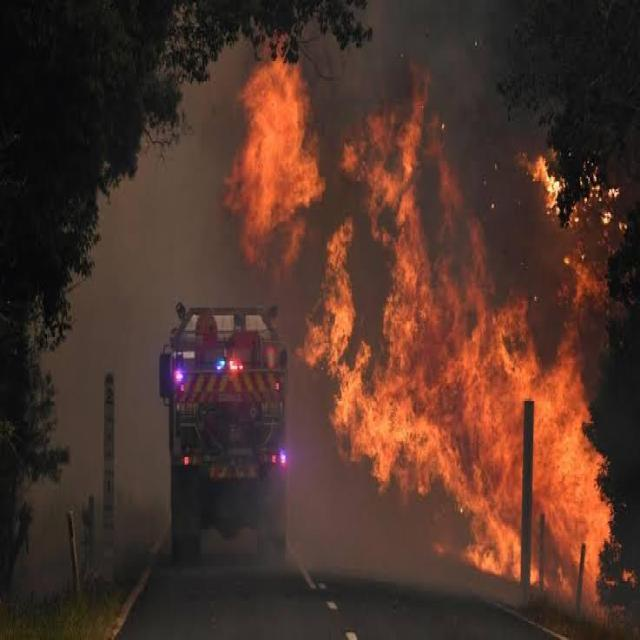Fire: (305, 223, 640, 602), (342, 89, 482, 262), (223, 57, 326, 268), (520, 138, 621, 224)
